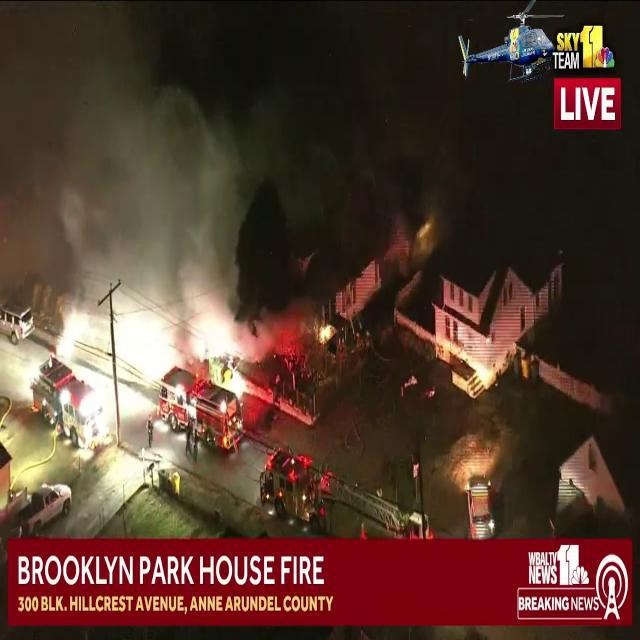Smoke: (1, 0, 244, 333), (256, 15, 542, 274)
